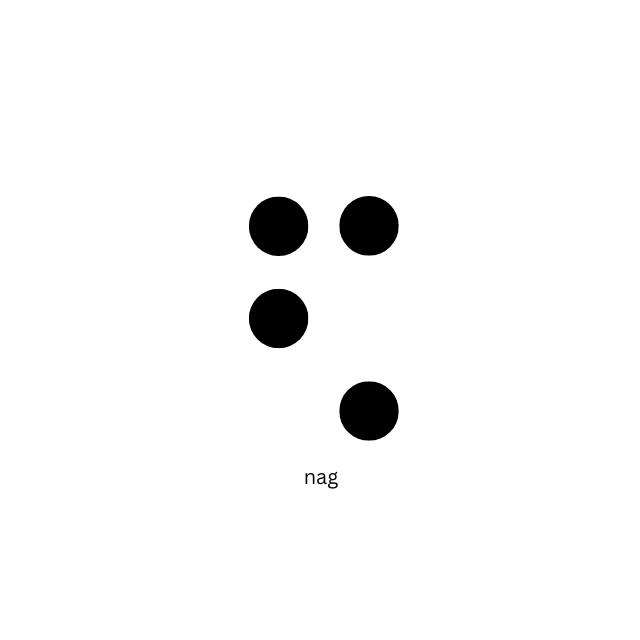one_cell_part_word_nag: (248, 196, 400, 443)
